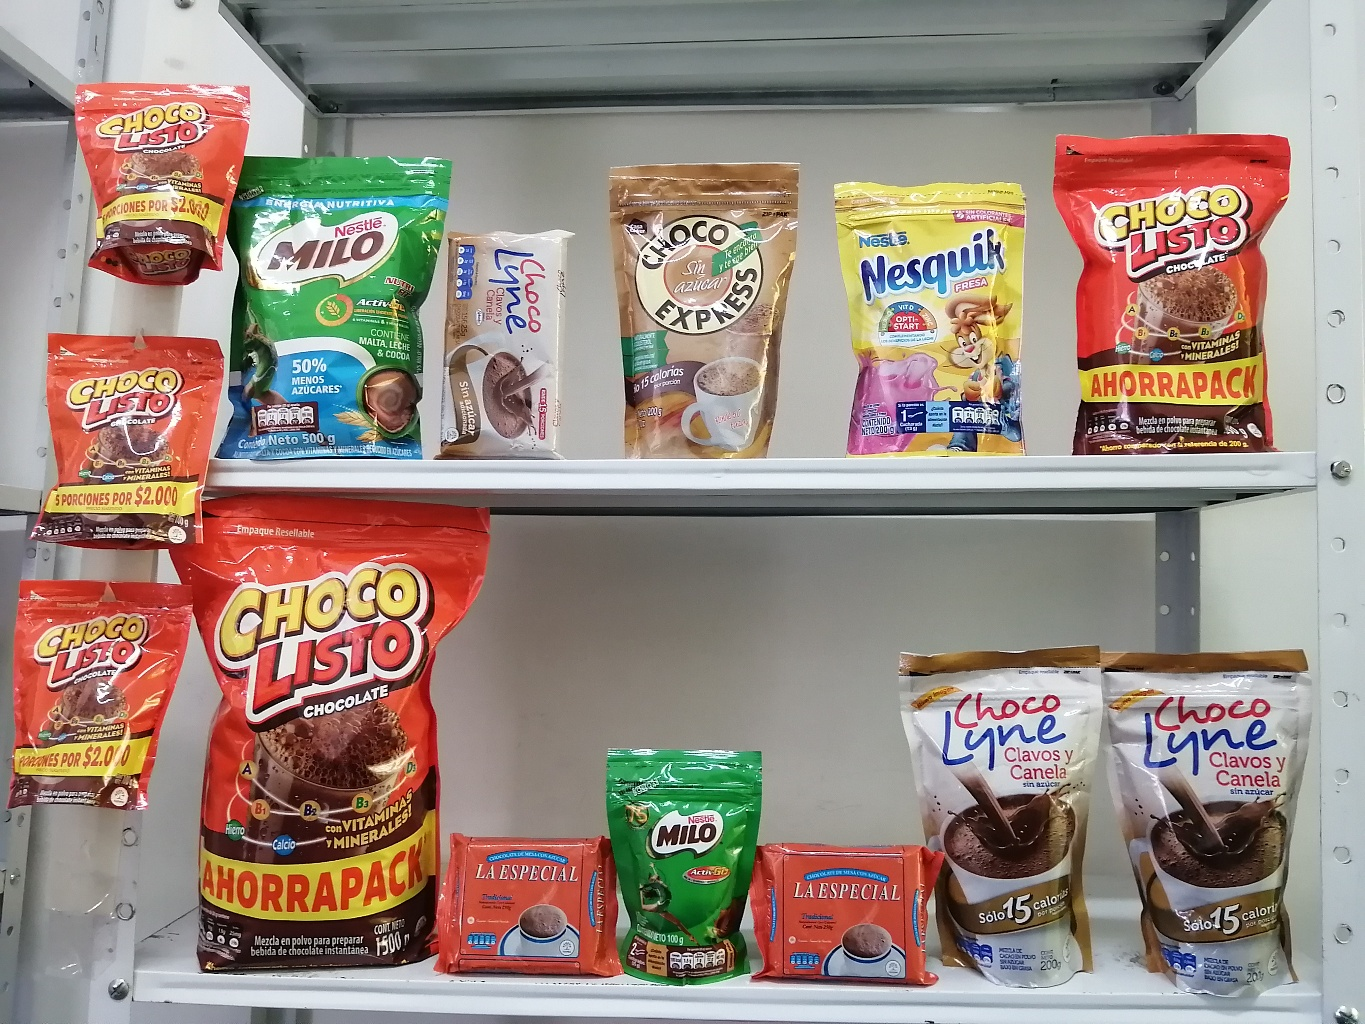COL0170103DYP1,500: (165, 496, 499, 975)
COL0170103DYP10000: (74, 81, 250, 286)
COL0170103DYP40000: (1055, 142, 1290, 456)
COL0170203DYP10000: (603, 746, 771, 979)
COL0170205DYP50000: (222, 151, 451, 461)
COL0170305DYP20000: (831, 179, 1030, 457)
